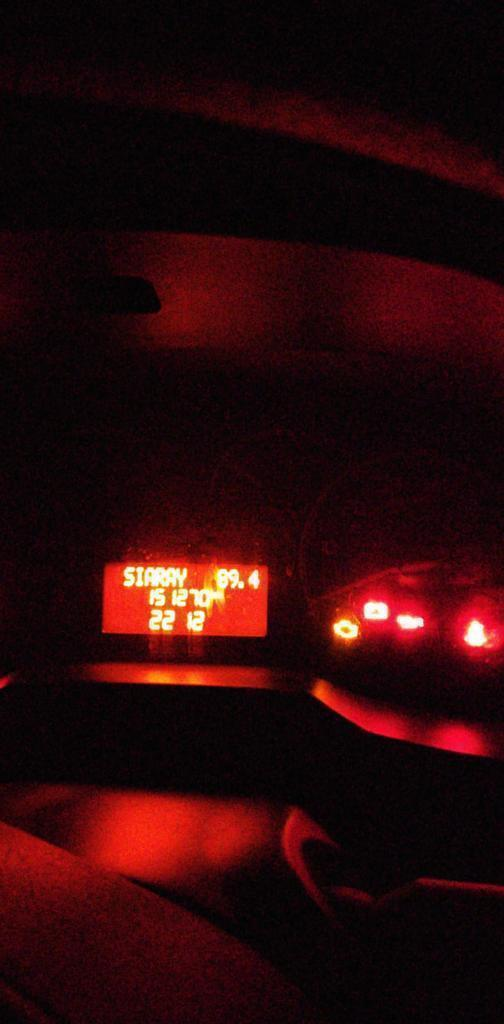,: (238, 580, 244, 589)
0: (199, 588, 211, 607)
1: (184, 610, 191, 630), (170, 588, 177, 606), (147, 588, 154, 605)
2: (147, 608, 162, 631), (191, 610, 206, 632), (162, 609, 176, 631), (177, 587, 188, 607)
4: (247, 567, 262, 589)
5: (154, 588, 166, 606)
7: (188, 588, 199, 607)
8: (215, 567, 228, 589)
9: (227, 567, 239, 589)
X: (121, 564, 134, 588), (144, 564, 155, 587), (165, 565, 176, 587), (176, 566, 187, 588), (155, 564, 165, 587), (136, 565, 144, 588), (217, 591, 225, 600), (211, 589, 216, 600)
odometer: (99, 559, 273, 639)
